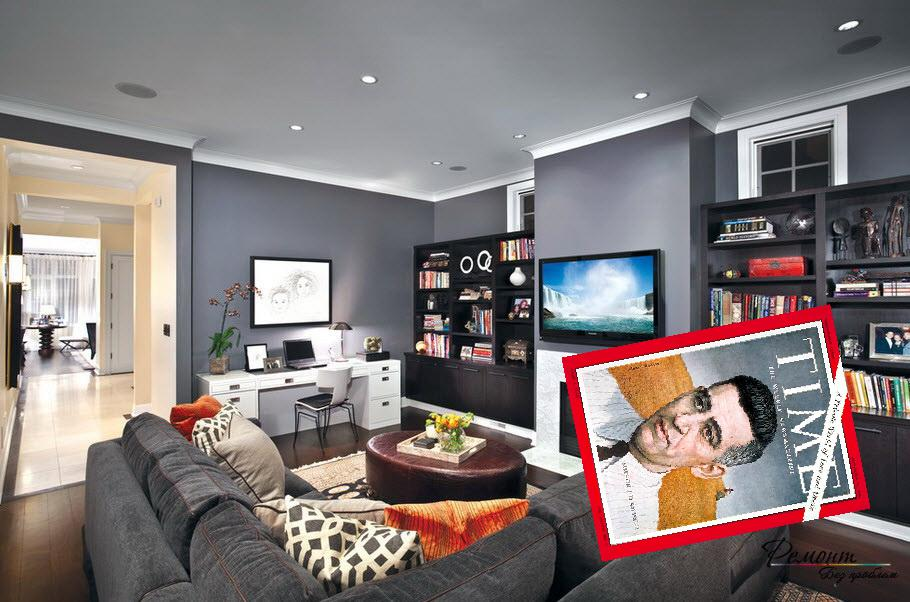times: (560, 305, 869, 559)
